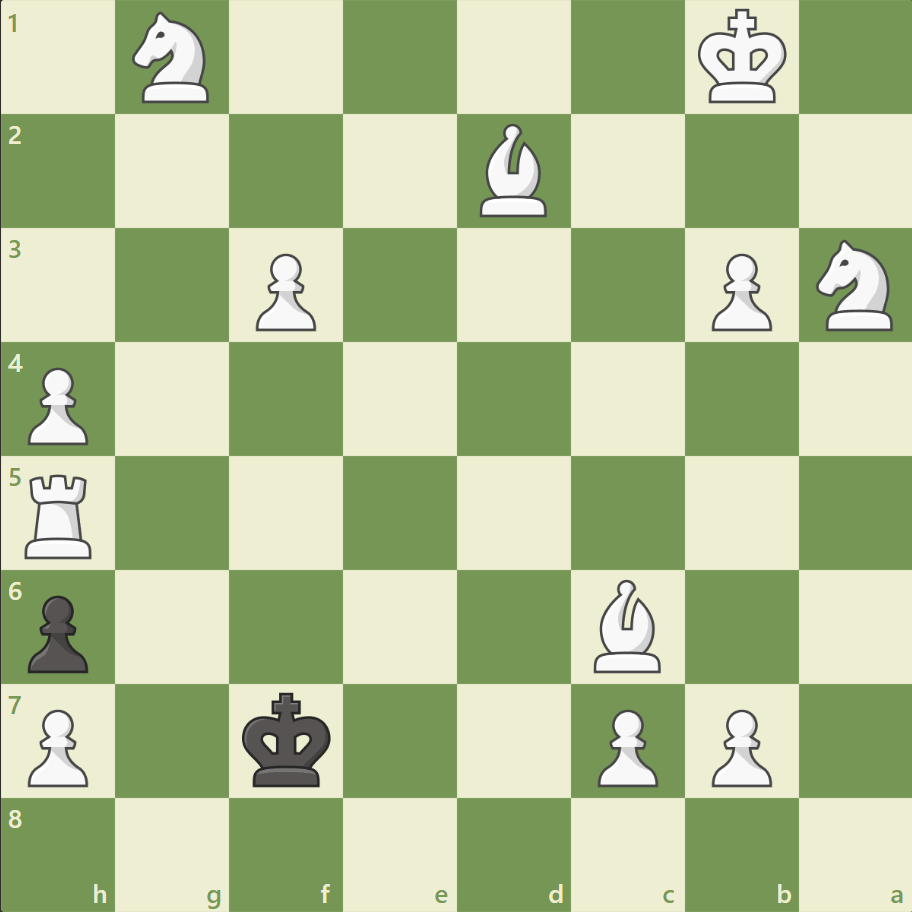B: (585, 574, 669, 676), (471, 120, 555, 222)
K: (692, 4, 792, 112)
N: (124, 7, 222, 110), (806, 234, 903, 337)
P: (701, 700, 776, 791), (20, 700, 95, 791), (20, 359, 95, 450), (701, 246, 776, 337), (247, 246, 322, 337), (588, 700, 662, 791)
R: (19, 466, 102, 563)
k: (238, 685, 338, 793)
p: (20, 586, 95, 677)
